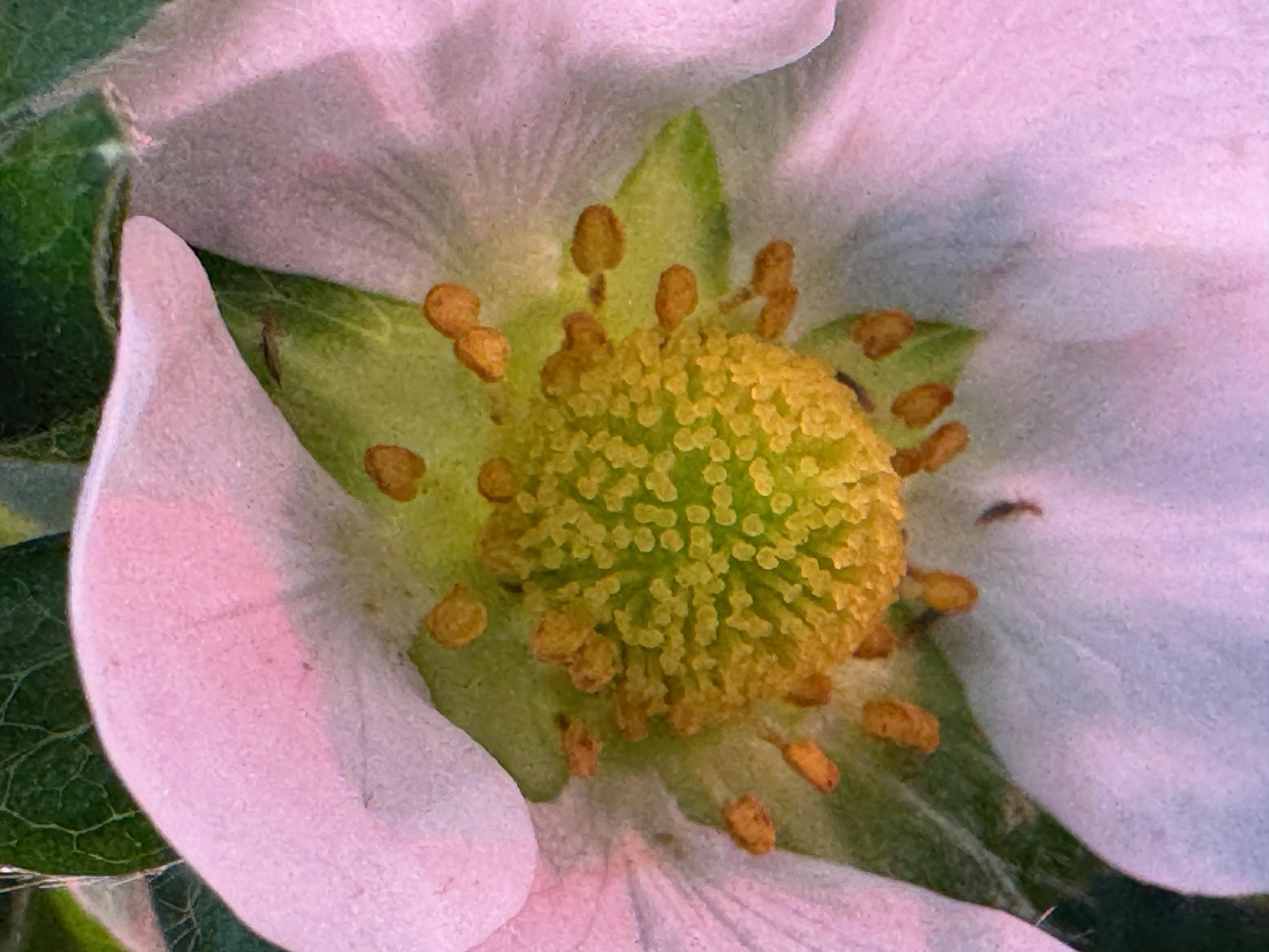tiny_pests: (960, 474, 1065, 548), (244, 307, 297, 408)
